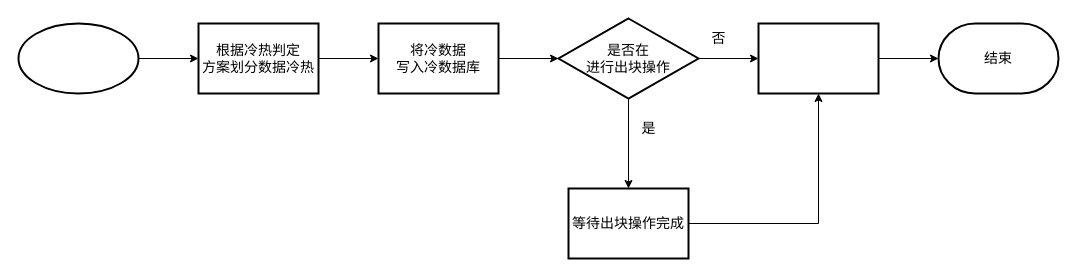
Some shapes in this 1076 by 276 pixel diagram are drawn without their labels. Here are the shapes that lost their labels. From the top down, the centre of each, then its label:
At pixel 78 58: "开始".
At pixel 818 58: "将冷数据从 热数据库中删除".
